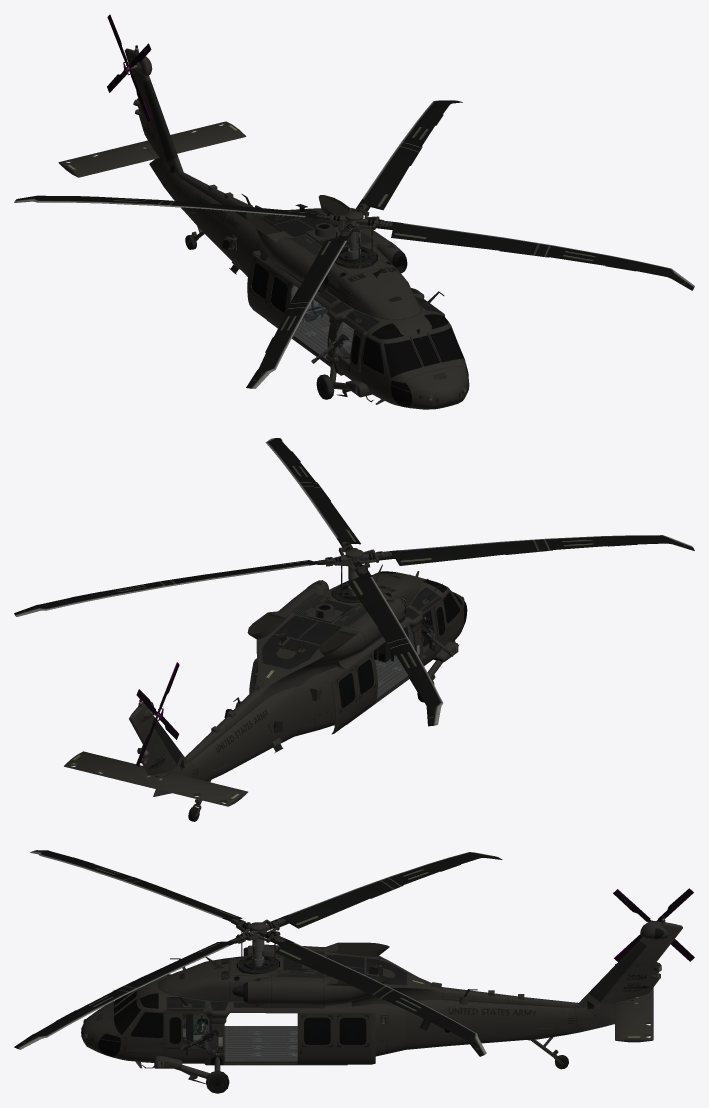
3 views of the same model, one above another, from view 1: azimuth 30°, elevation 25°; view 2: azimuth 150°, elevation 25°; view 3: azimuth 270°, elevation 25° (orthographic). The views are drawn at different scales.
Visible parts, largest first — view 1: Fuselage_6, main rotor prop_7, Door open_5, TAIL ROTOR_4; view 2: Fuselage_6, main rotor prop_7, Door open_5, TAIL ROTOR_4; view 3: Fuselage_6, main rotor prop_7, Door open_5, TAIL ROTOR_4.
Boxes of the visible parts, x1,y1,x2,y2 form: Fuselage_6: [58, 45, 469, 409]; main rotor prop_7: [14, 100, 694, 388]; Door open_5: [247, 253, 364, 372]; TAIL ROTOR_4: [107, 14, 151, 121]; Fuselage_6: [64, 549, 467, 821]; main rotor prop_7: [14, 438, 694, 726]; Door open_5: [249, 601, 454, 734]; TAIL ROTOR_4: [136, 662, 179, 766]; Fuselage_6: [81, 916, 682, 1093]; main rotor prop_7: [14, 850, 502, 1056]; Door open_5: [166, 1012, 375, 1064]; TAIL ROTOR_4: [613, 888, 694, 961].
Bounding box in the file's own units: 12.21 × 4.85 × 17.02.
Materials: 1 (1 with a texture image).
